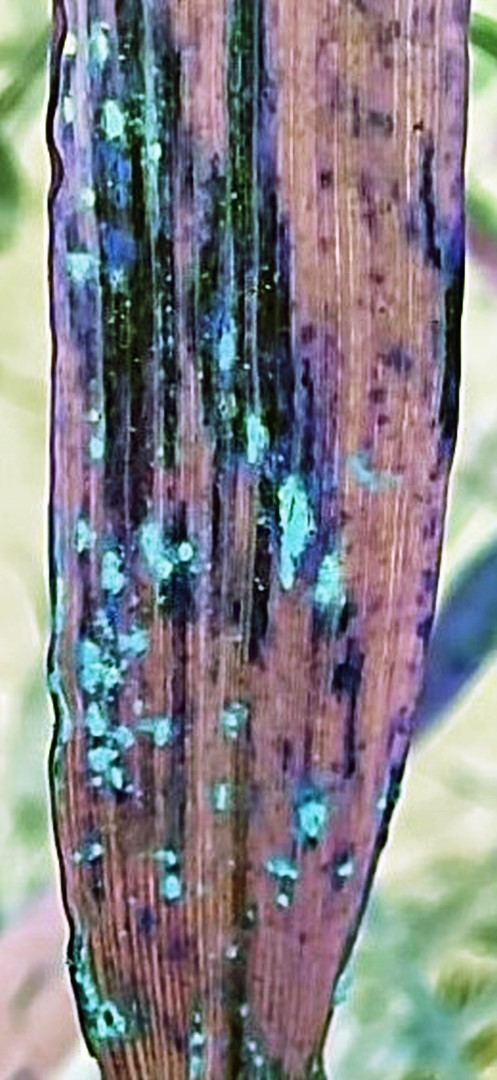Leaf Rust: (21, 125, 418, 989)
